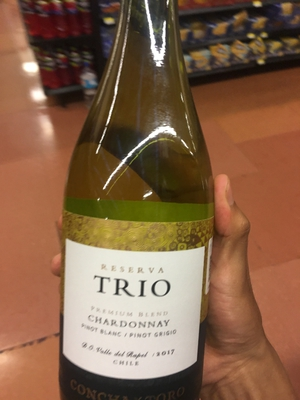trio chardonnay: (55, 33, 226, 400)
